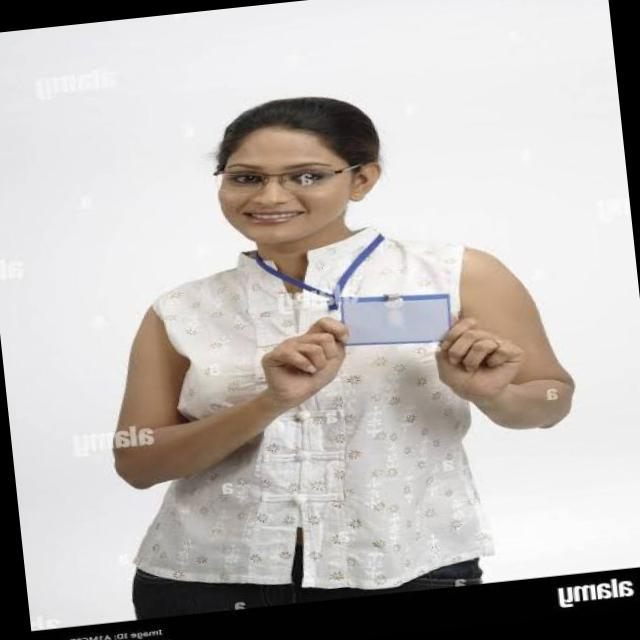id_card: (239, 224, 460, 359)
